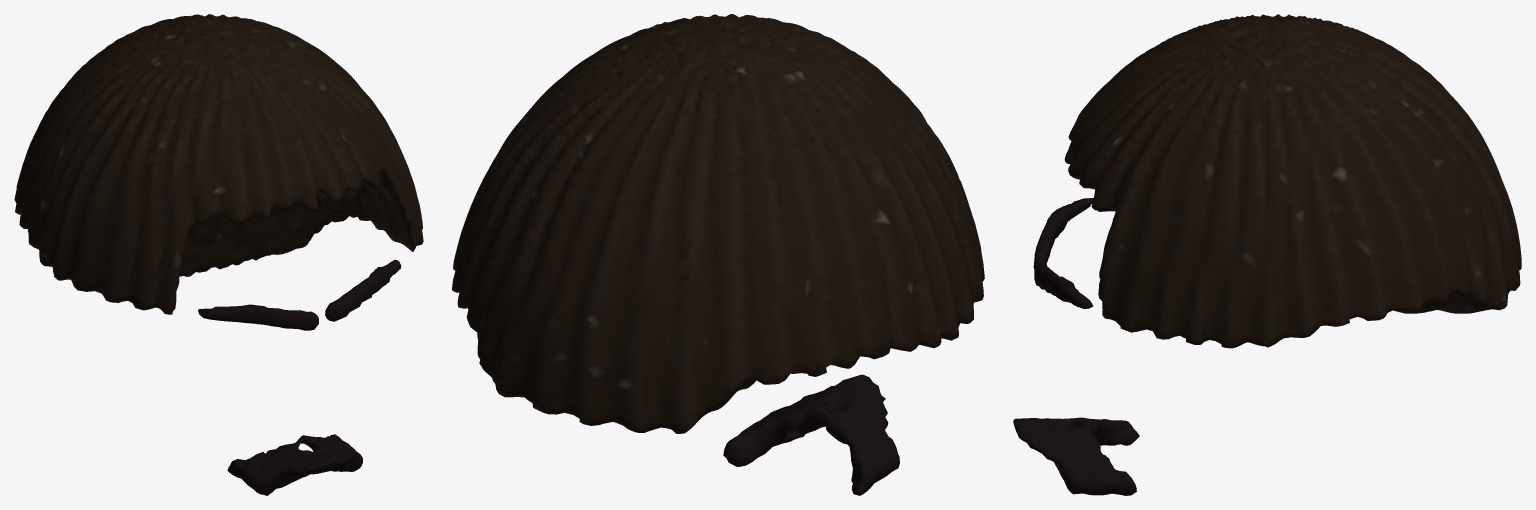
The model's file is zafer_hair.glb.
3 renders of one model, left to right at view 1: azimuth 30°, elevation 25°; view 2: azimuth 150°, elevation 25°; view 3: azimuth 270°, elevation 25°, orthographic. The views are drawn at different scales.
Parts seen in each view (by area): view 1: geometry_0; view 2: geometry_0; view 3: geometry_0.
Part boxes in pixels (x1=…): geometry_0: x1=14, y1=14, x2=423, y2=495; geometry_0: x1=452, y1=14, x2=984, y2=495; geometry_0: x1=1013, y1=14, x2=1521, y2=495.
Size of the model in its own units: 0.1714 by 0.1829 by 0.1933.
